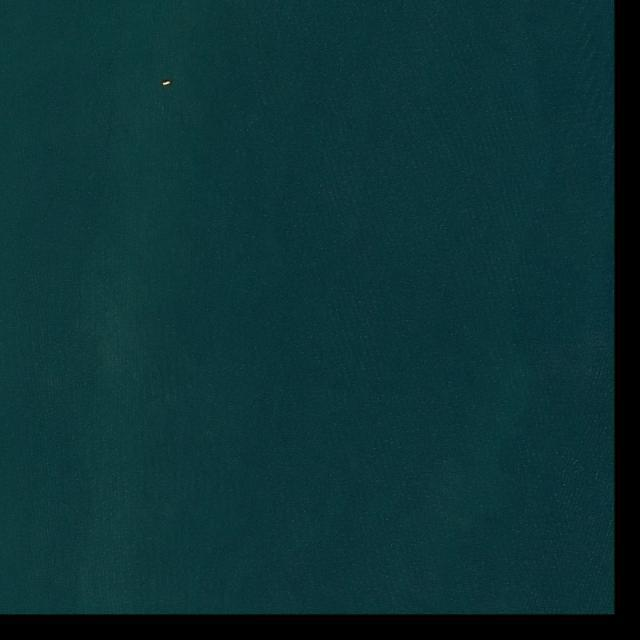ship: (162, 81, 170, 86)
